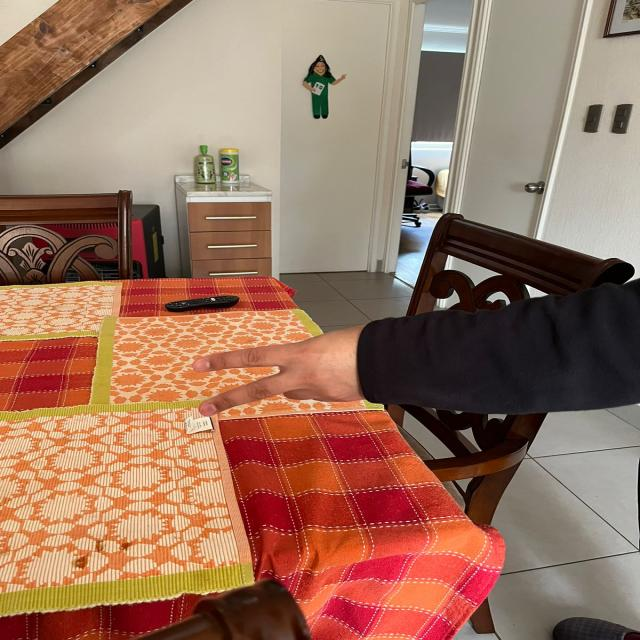H: (189, 320, 392, 418)
